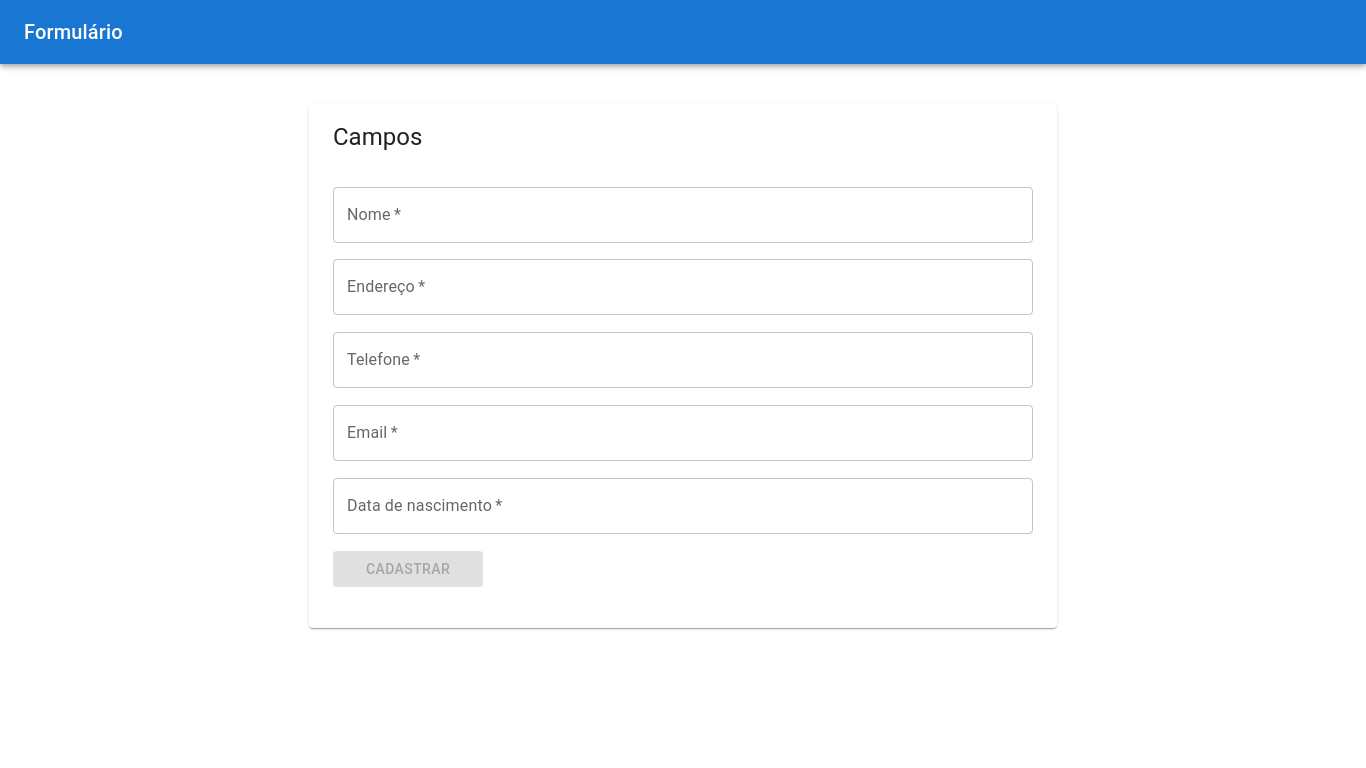
Test: Se o email não conter o formator certo, mostrar error
inserir um valor aos inputs
In the field labelled "Nome *": point(683, 214) [333, 186, 1033, 242], type "Mateus Lima"
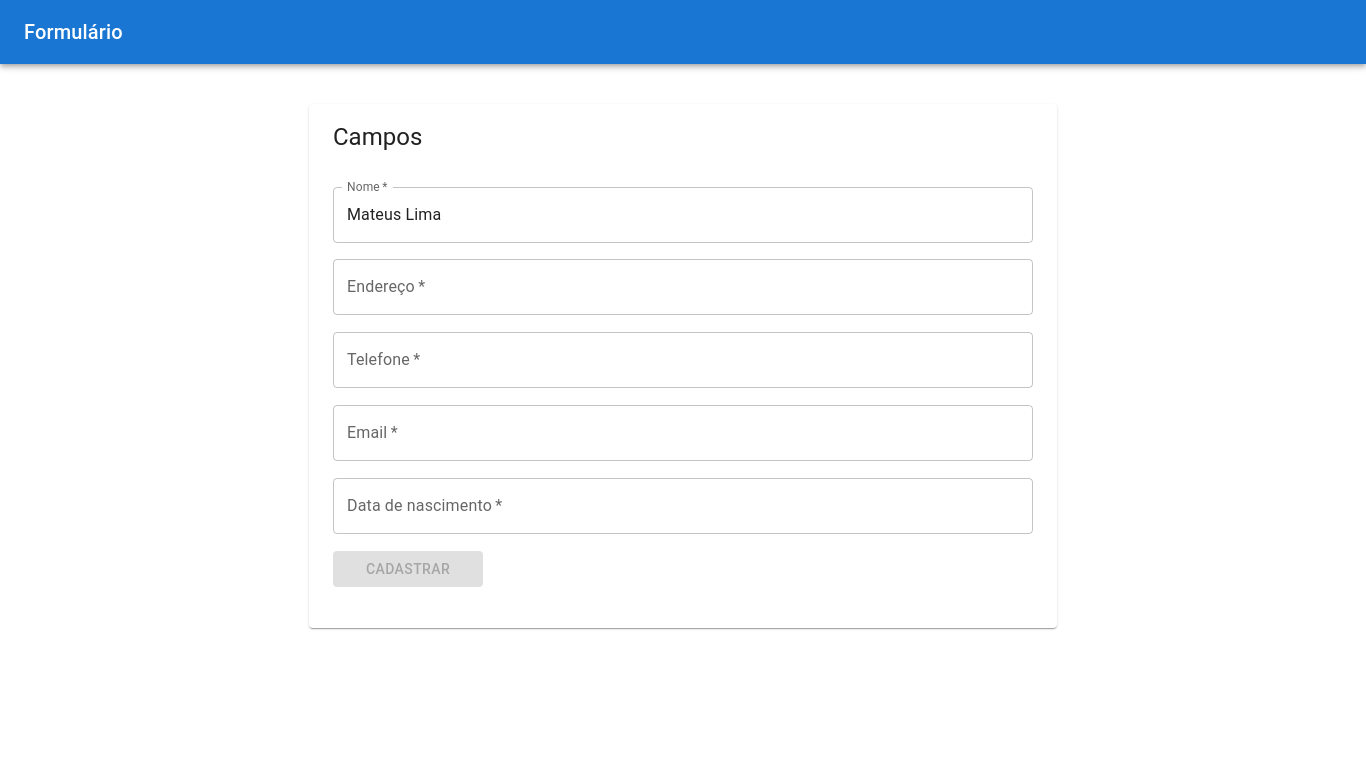
In the field labelled "Endereço *": point(683, 287) [333, 259, 1033, 315], type "Rua Lima, 23"
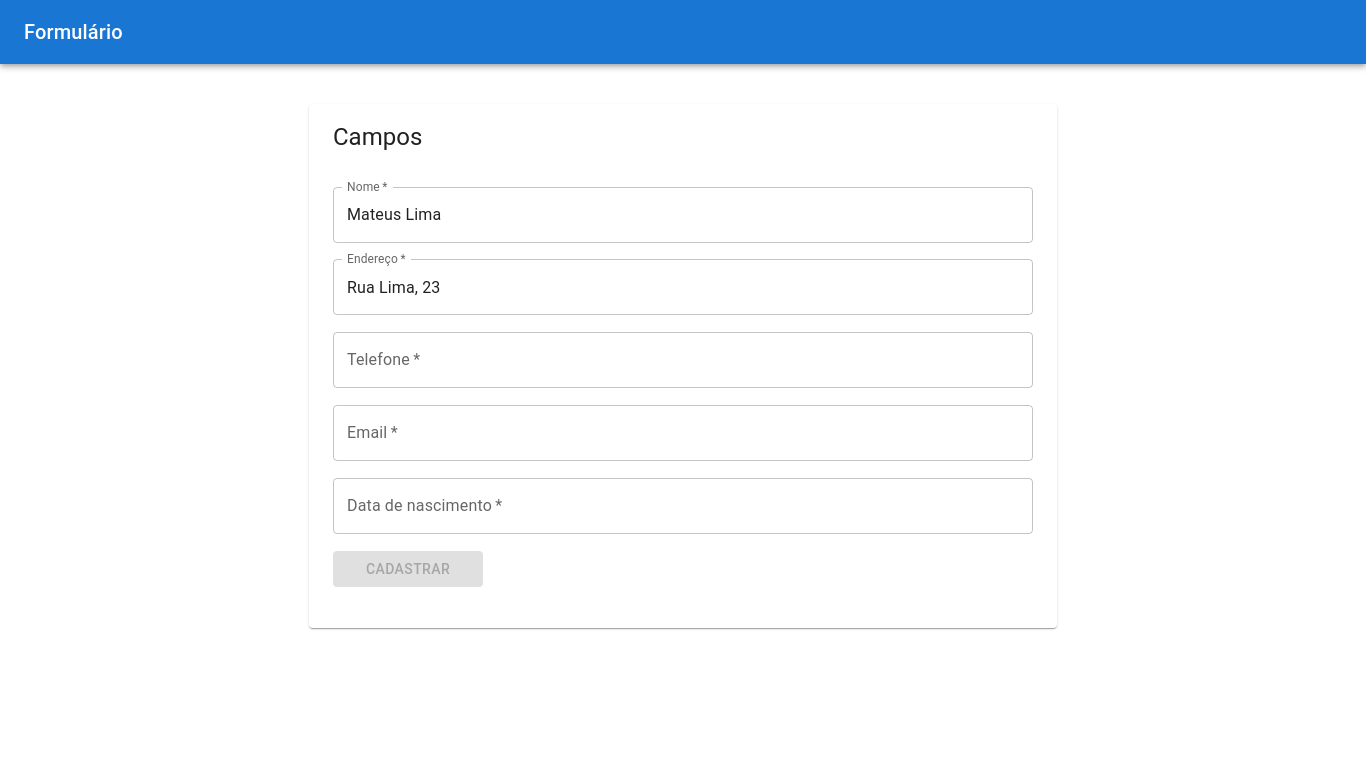
In the field labelled "Telefone *": point(683, 360) [333, 332, 1033, 388], type "85999999999"
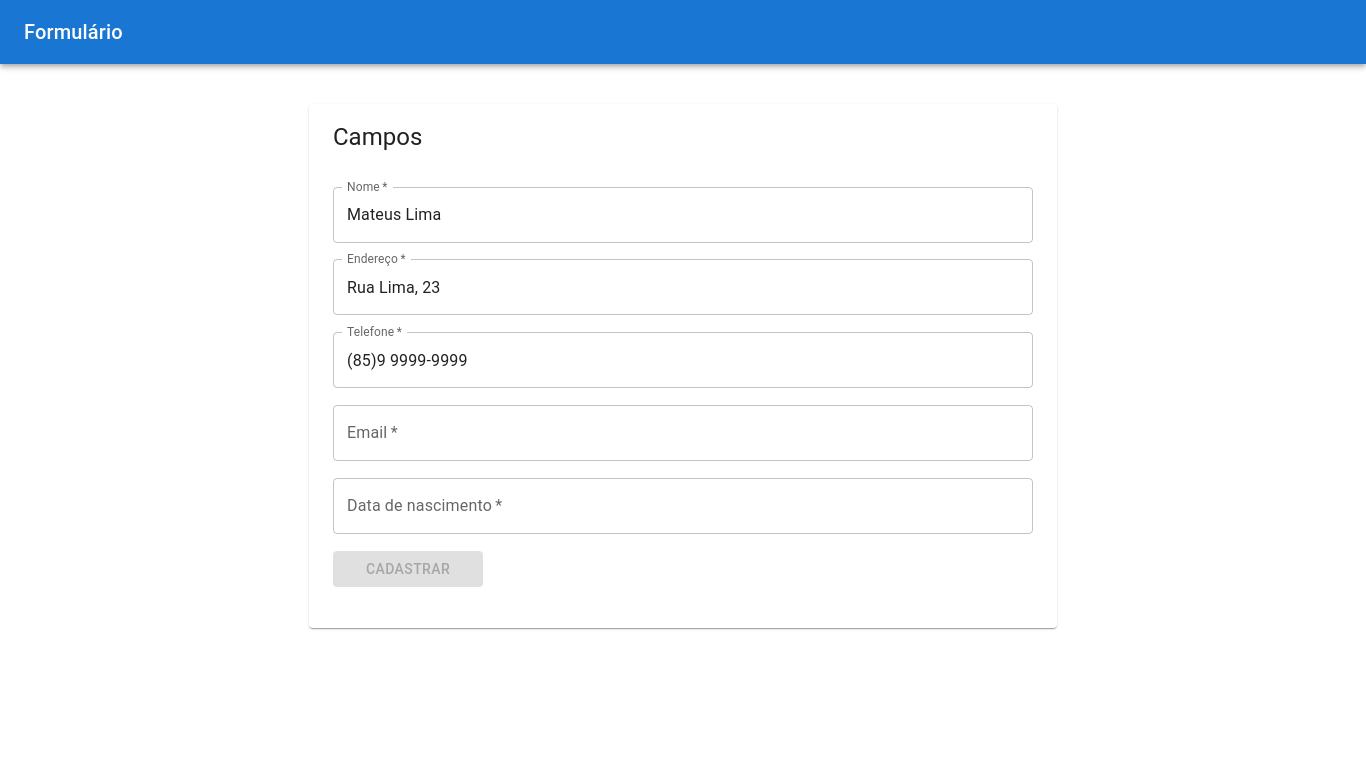
In the field labelled "Email *": point(683, 433) [333, 405, 1033, 461], type "mateusgmail.com"
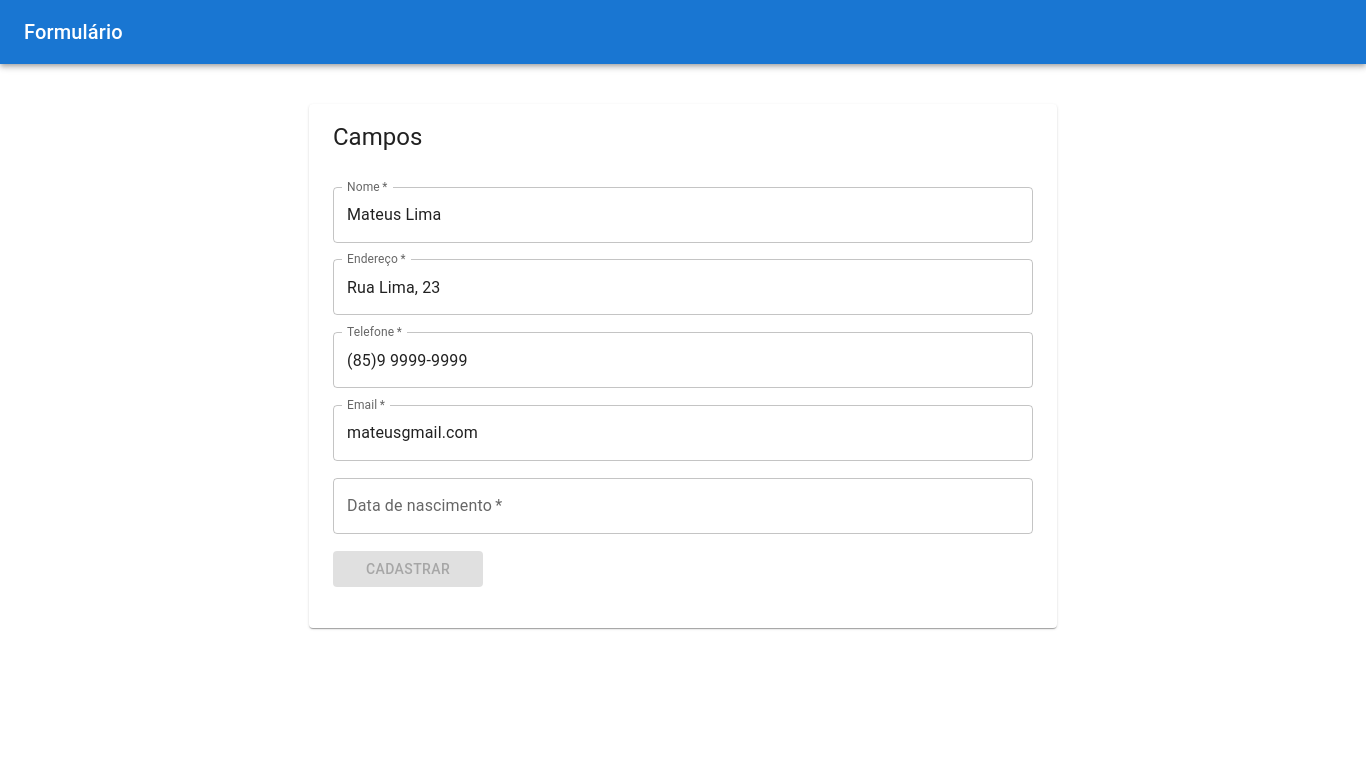
In the field labelled "Data de nascimento *": point(683, 506) [333, 478, 1033, 534], type "15/02/1996"
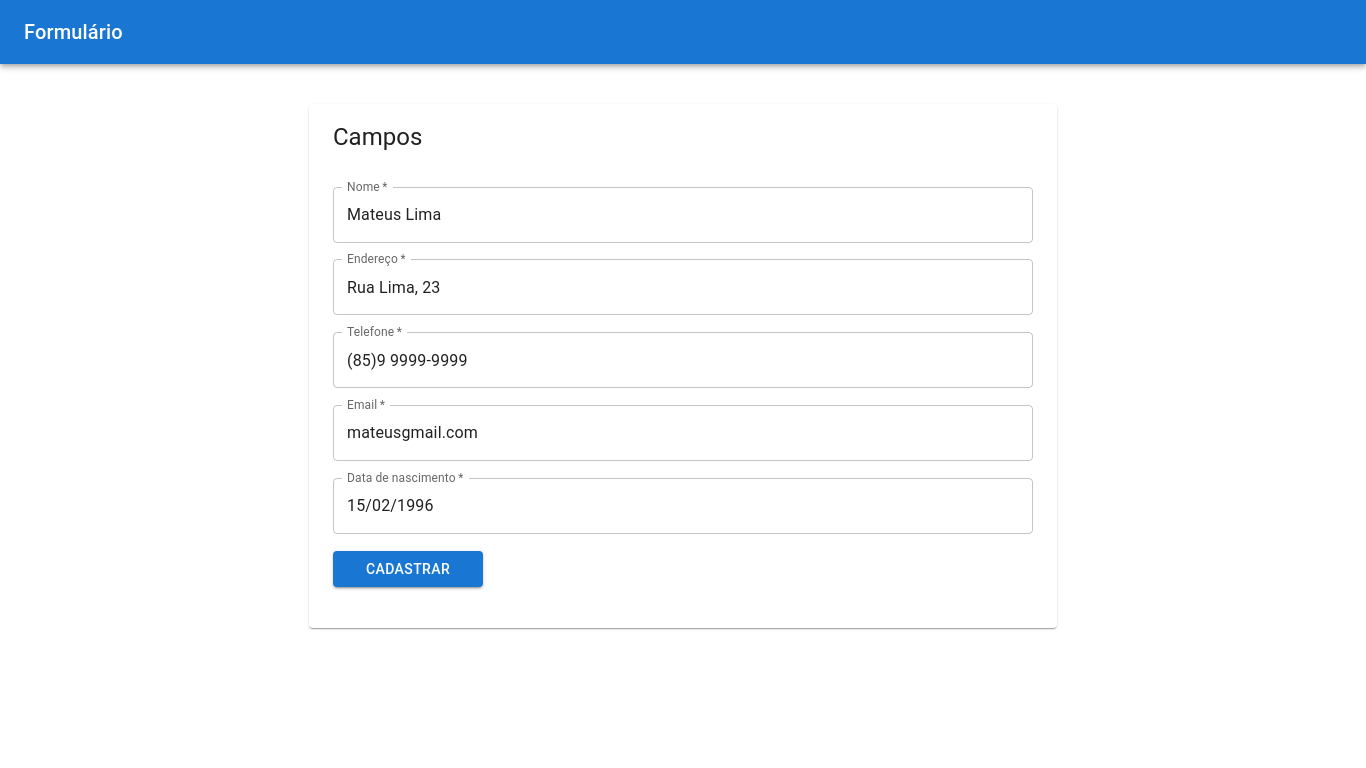
clicar no botão de submeter
Click the button: point(408, 569) [333, 551, 483, 587]
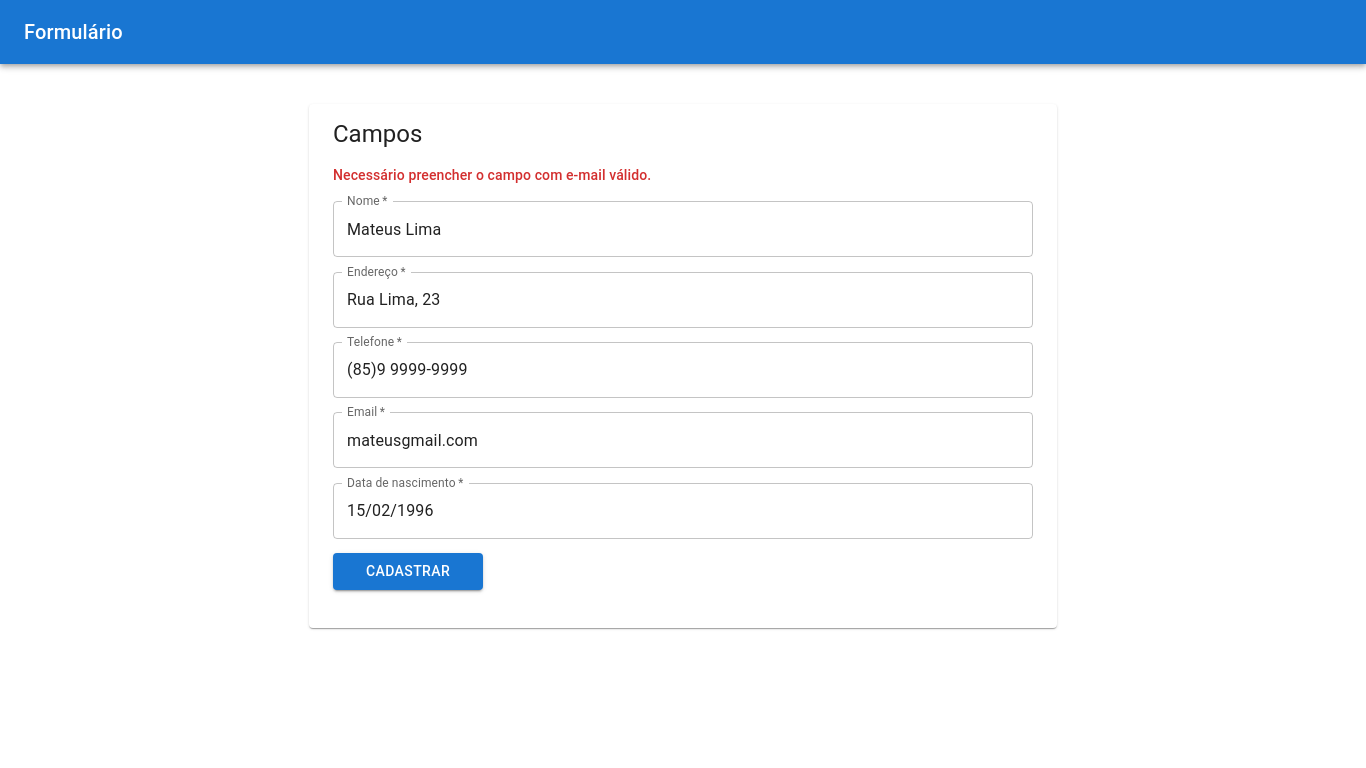
Expected: the heading "Necessário preencher o campo com e-mail válido." is shown, [333, 167, 651, 183]
